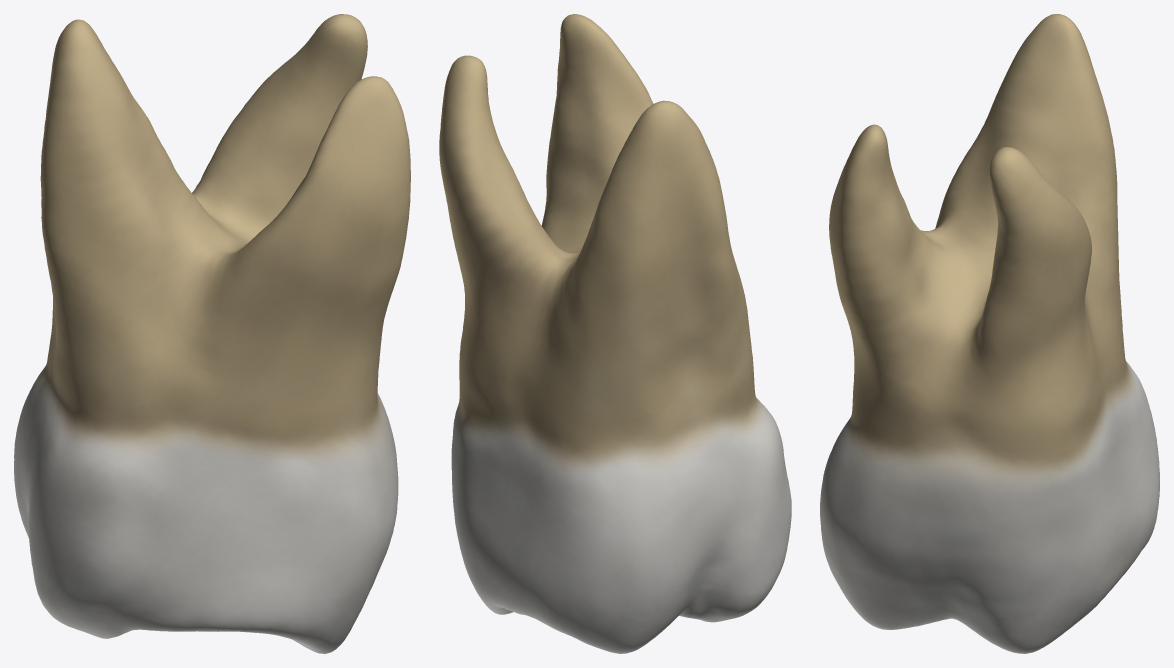
File: maxillary_first_molar.glb
3 views of the same model, side by side, from view 1: azimuth 30°, elevation 25°; view 2: azimuth 150°, elevation 25°; view 3: azimuth 270°, elevation 25° (orthographic). The views are drawn at different scales.
Parts seen in each view (by area): view 1: Object_2; view 2: Object_2; view 3: Object_2.
Boxes of the visible parts, x1,y1,x2,y2 form: Object_2: [14, 14, 410, 653]; Object_2: [439, 14, 791, 653]; Object_2: [820, 14, 1159, 653].
Bounding box in the file's own units: 0.4533 × 0.7784 × 0.4331.
Materials: 1 (1 with a texture image).
